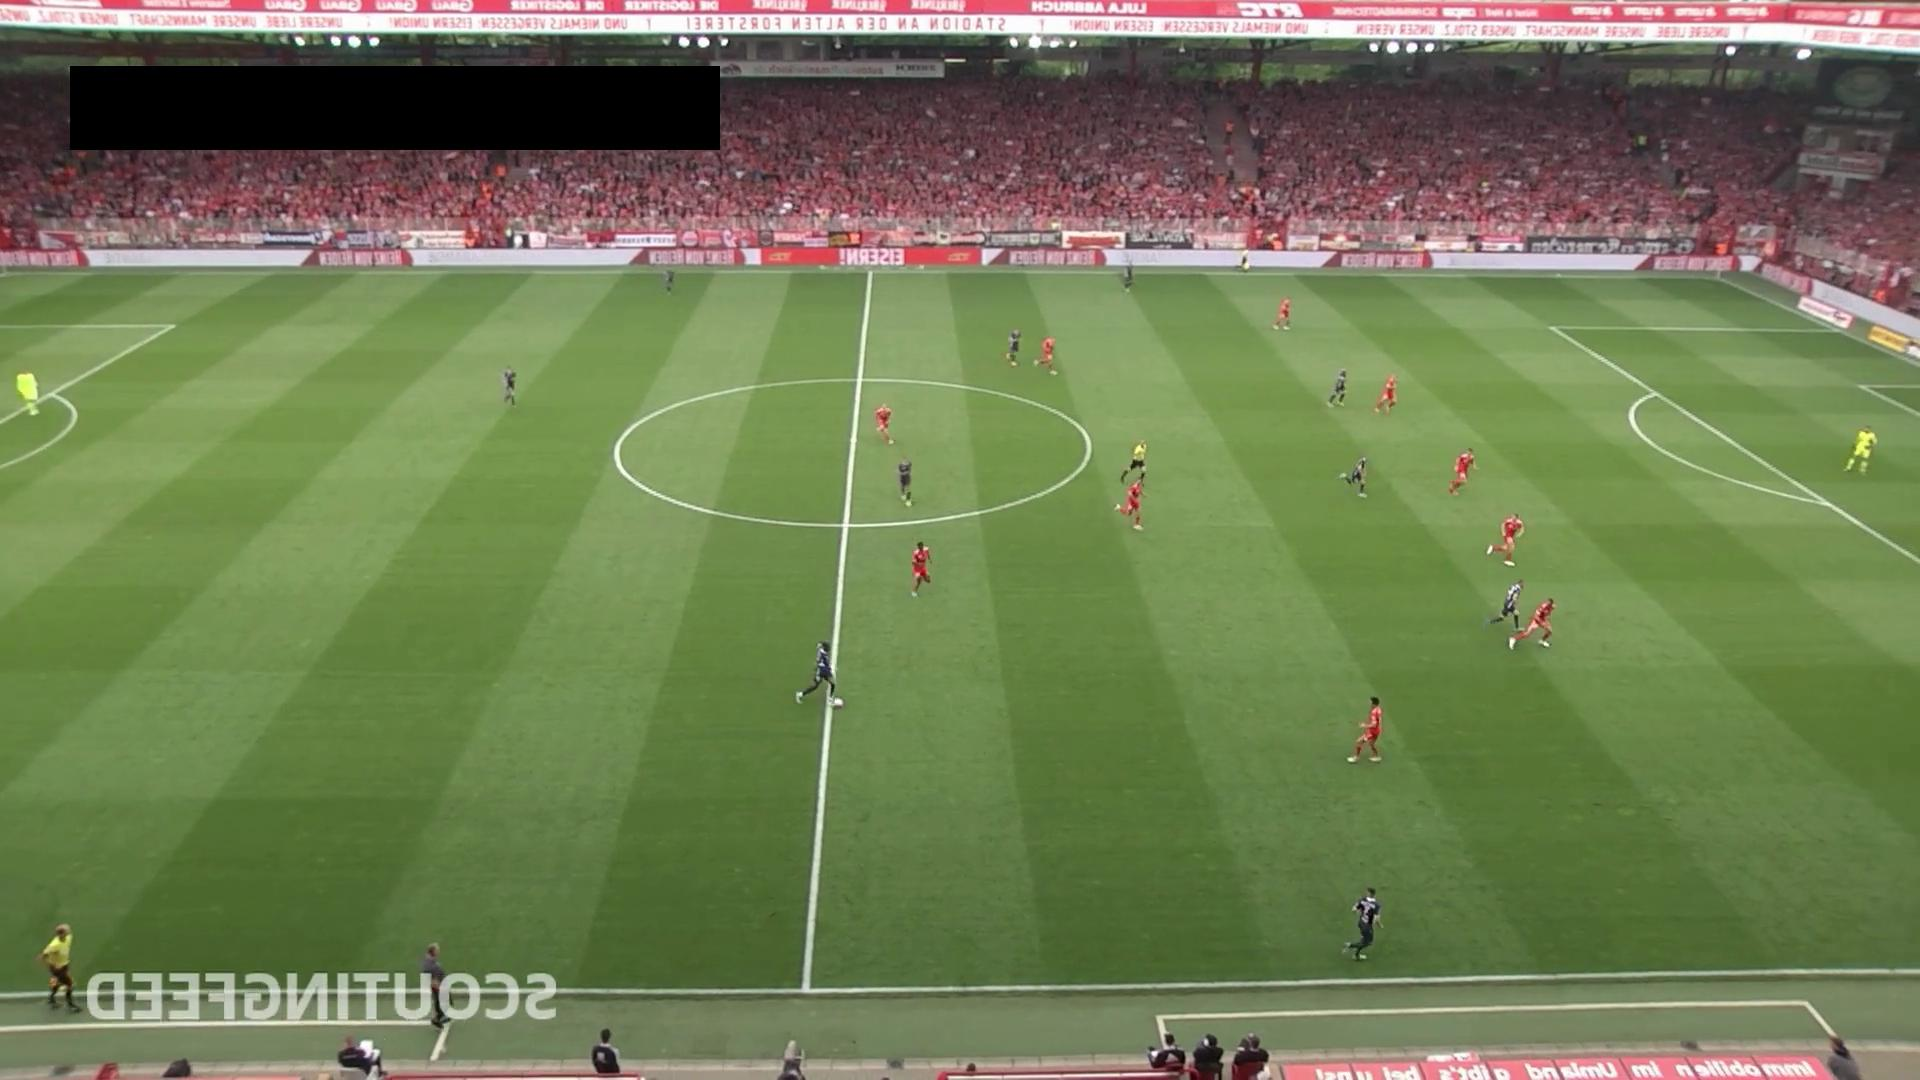ball: (831, 695, 844, 709)
goalkeeper: (1842, 426, 1877, 474), (16, 371, 39, 413)
player: (794, 641, 844, 709), (1343, 887, 1384, 961), (1346, 696, 1384, 764), (1508, 598, 1557, 650), (1484, 578, 1525, 630), (1486, 513, 1525, 567), (1117, 476, 1146, 530), (1448, 447, 1478, 495), (910, 540, 932, 597), (1339, 456, 1368, 498), (1373, 373, 1398, 416), (1033, 336, 1057, 375), (874, 404, 895, 445), (1327, 368, 1347, 407), (897, 457, 913, 505), (1272, 297, 1291, 331), (501, 367, 517, 407), (1005, 327, 1021, 366), (1120, 255, 1135, 294), (663, 269, 675, 294)
referee: (38, 924, 82, 1012), (1120, 438, 1147, 483), (1238, 247, 1251, 275)
